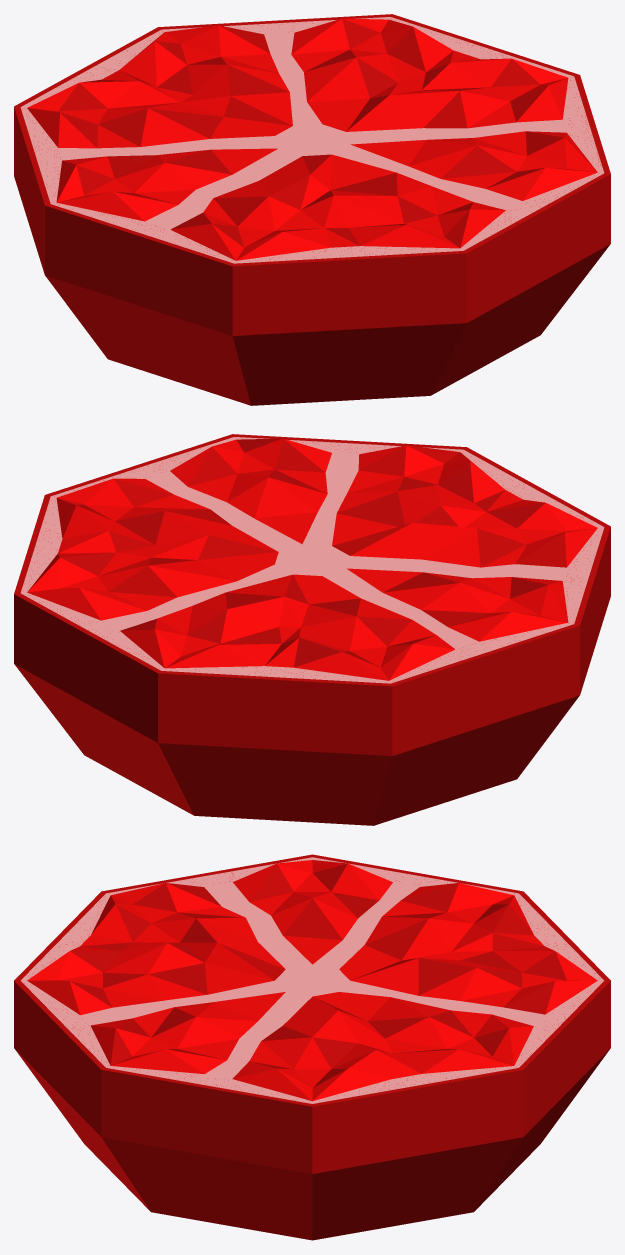
The model's file is pomegranate02.gltf.
3 renders of one model, top to bottom at view 1: azimuth 30°, elevation 25°; view 2: azimuth 150°, elevation 25°; view 3: azimuth 270°, elevation 25°, orthographic. The views are drawn at different scales.
Parts seen in each view (by area): view 1: Cylinder; view 2: Cylinder; view 3: Cylinder.
Part boxes in pixels (<box>): Cylinder: <box>14,14,610,405</box>; Cylinder: <box>14,434,610,825</box>; Cylinder: <box>14,854,610,1240</box>.
Size of the model in its own units: 0.109 by 0.0454 by 0.109.
Materials: 1 (1 with a texture image).
